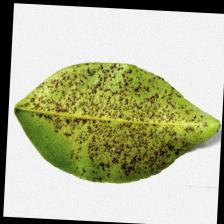canker: (49, 80, 172, 174)
